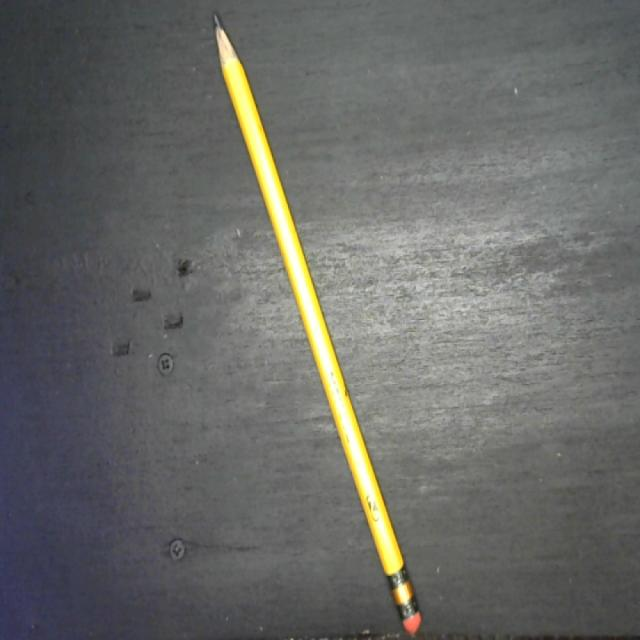biodegradable: (207, 10, 424, 640)
